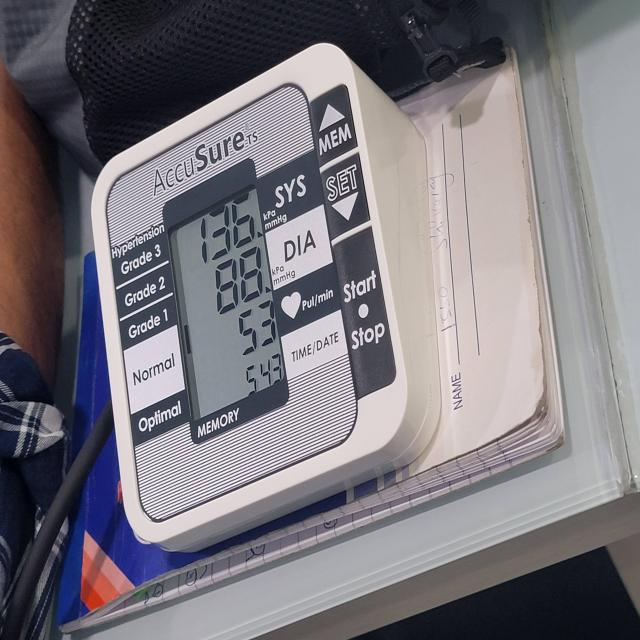bp: (88, 43, 509, 556)
